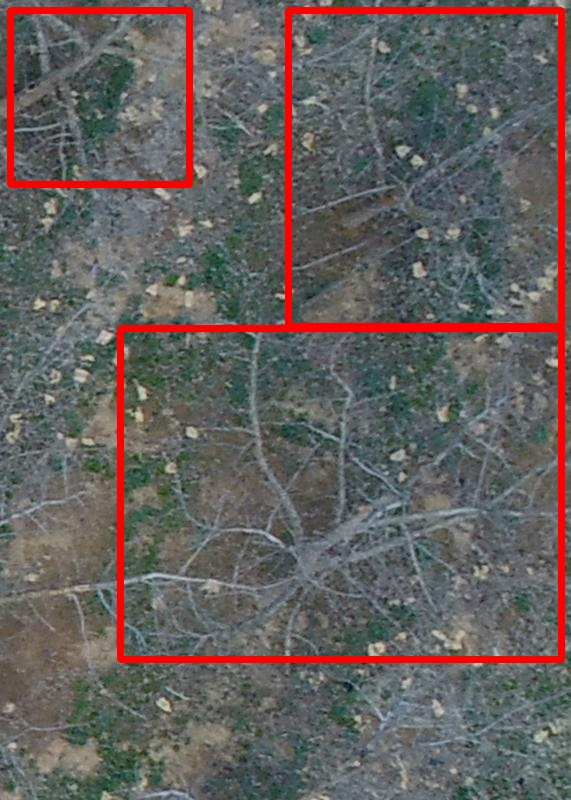apple: (120, 328, 561, 659), (288, 10, 561, 326), (10, 10, 189, 184)
